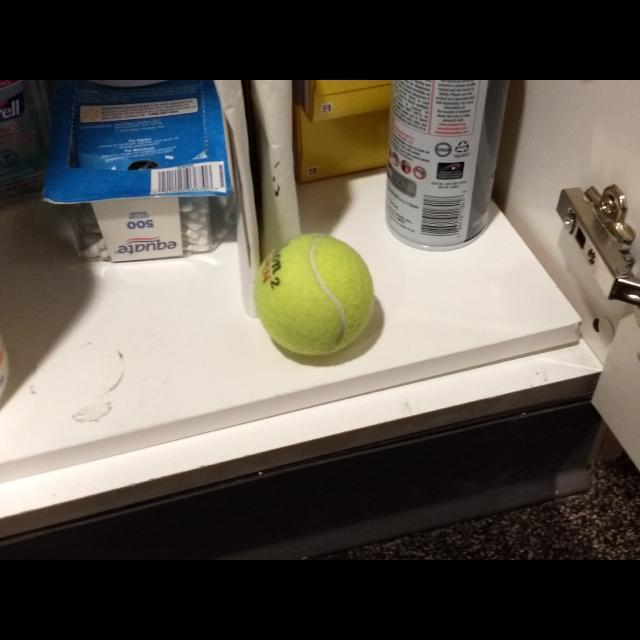tennis-ball: (254, 231, 377, 360)
